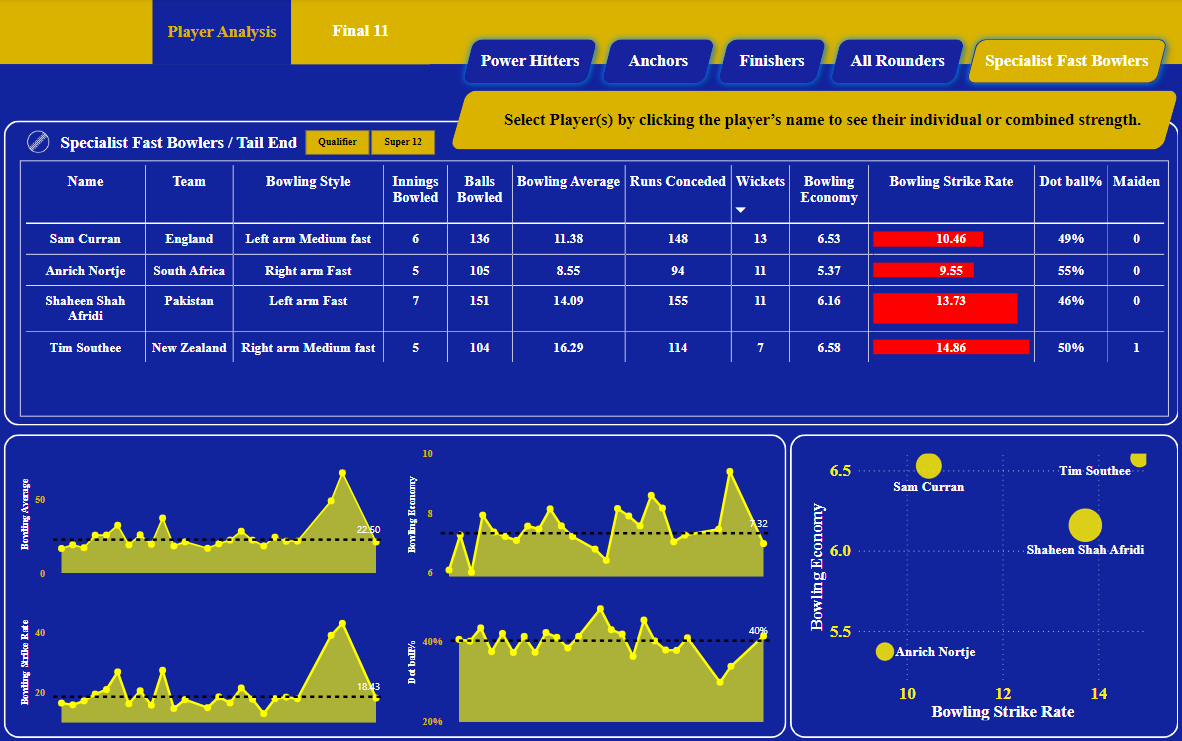

What the dashboard file says about the page in this screenshot:
{"tool":"powerbi","page":{"name":"New Specialist Fast Bowlers / Tail End","canvas":[1435,900],"ordinal":4},"visuals":[{"type":"shape","box":[0,79.9,1435.3,820.2],"z":0},{"type":"group","id":"g1","title":"Group 2","box":[76.1,158.2,292.5,31.7],"z":0,"group":"g2"},{"type":"shape","box":[76.1,158.2,292.5,31.7],"z":0,"group":"g1"},{"type":"shape","box":[10.6,147.8,1417.2,367.9],"z":1000},{"type":"image","box":[30.2,155.3,44,36],"z":1000,"group":"g2"},{"type":"shape","box":[548.8,111.6,879,70.9],"z":2000},{"type":"shape","box":[958.9,526.2,468.9,366.4],"z":3000},{"type":"tableEx","fields":{"Values":["dim_players.Name","dim_players.Team","dim_players.Bowling Style","Measure.Total Innings Bowled","Measure.Balls Bowled","Measure.Bowling Average","Measure.Runs Conceded","Sum(fact_bowling_summary.Wickets)","Measure.Bowling Economy","Measure.Bowling Strike Rate","Measure.Dot ball%","Sum(fact_bowling_summary.Maiden)"]},"box":[30.2,196,1385.6,309],"z":4000},{"type":"card","fields":{"Values":["Measure.Bowling Average"]},"box":[815.7,111.6,138.7,70.9],"z":5000},{"type":"slicer","fields":{"Values":["dim_match_summary.Stage"]},"box":[348.3,152.3,206.6,43.7],"z":6000},{"type":"scatterChart","fields":{"Category":["dim_players.Name"],"Size":["Measure.Total Runs"],"Y":["Measure.Bowling Economy"],"X":["Measure.Bowling Strike Rate"]},"box":[975.5,536.7,428.2,339.2],"z":7000},{"type":"card","fields":{"Values":["Measure.Dot ball%"]},"box":[1240.8,111.6,123.6,70.9],"z":8000},{"type":"card","fields":{"Values":["Measure.Bowling Economy"]},"box":[975.5,111.6,123.6,70.9],"z":9000},{"type":"card","fields":{"Values":["Measure.Bowling Strike Rate"]},"box":[1115.7,111.6,125.1,70.9],"z":10000},{"type":"actionButton","box":[554.8,40.7,180.9,70.9],"z":11000},{"type":"actionButton","box":[722.2,40.7,155.3,70.9],"z":12000},{"type":"actionButton","box":[1162.4,40.7,260.8,70.9],"z":13000},{"type":"actionButton","box":[998.1,40.7,180.9,70.9],"z":14000},{"type":"actionButton","box":[862.4,40.7,149.3,70.9],"z":15000},{"type":"shape","box":[10.6,526.2,943.8,366.4],"z":16000},{"type":"areaChart","fields":{"Y":["Measure.Bowling Economy"],"Category":["dim_match_summary.Match Date"]},"box":[493,535.2,449.3,170.4],"z":17000},{"type":"areaChart","fields":{"Y":["Measure.Dot ball%"],"Category":["dim_match_summary.Match Date"]},"box":[493,714.6,449.3,170.4],"z":18000},{"type":"areaChart","fields":{"Y":["Measure.Bowling Strike Rate"],"Category":["dim_match_summary.Match Date"]},"box":[25.6,716.1,449.3,170],"z":19000},{"type":"areaChart","fields":{"Y":["Measure.Bowling Average"],"Category":["dim_match_summary.Match Date"]},"box":[25.6,536.7,449.3,170],"z":20000},{"type":"actionButton","box":[190,1.5,167.4,78.4],"z":21000},{"type":"actionButton","box":[357.3,0,167.4,79.9],"z":22000},{"type":"shape","box":[585,125.1,215.6,43.7],"z":23000},{"type":"shape","box":[612.1,125.1,771.9,43.7],"z":24000},{"type":"group","id":"g2","title":"Group 1","box":[30.2,155.3,338.4,36],"z":25000}]}

Visuals, with their boxes in screenshot pixels (x1, y1, x2, y2), scaled from the page's 1435x900 canvas onto the 1182x741 screenshot:
shape: region(0, 66, 1181, 740)
"Group 2" group: region(63, 130, 304, 156)
shape: region(63, 130, 304, 156)
shape: region(9, 122, 1176, 425)
image: region(25, 128, 61, 158)
shape: region(452, 92, 1176, 150)
shape: region(790, 433, 1176, 735)
tableEx - dim_players.Name x dim_players.Team: region(25, 161, 1166, 416)
card - Measure.Bowling Average: region(672, 92, 786, 150)
slicer - dim_match_summary.Stage: region(287, 125, 457, 161)
scatterChart - dim_players.Name x Measure.Total Runs: region(804, 442, 1156, 721)
card - Measure.Dot ball%: region(1022, 92, 1124, 150)
card - Measure.Bowling Economy: region(804, 92, 905, 150)
card - Measure.Bowling Strike Rate: region(919, 92, 1022, 150)
actionButton: region(457, 34, 606, 92)
actionButton: region(595, 34, 723, 92)
actionButton: region(957, 34, 1172, 92)
actionButton: region(822, 34, 971, 92)
actionButton: region(710, 34, 833, 92)
shape: region(9, 433, 786, 735)
areaChart - Measure.Bowling Economy x dim_match_summary.Match Date: region(406, 441, 776, 581)
areaChart - Measure.Dot ball% x dim_match_summary.Match Date: region(406, 588, 776, 729)
areaChart - Measure.Bowling Strike Rate x dim_match_summary.Match Date: region(21, 590, 391, 730)
areaChart - Measure.Bowling Average x dim_match_summary.Match Date: region(21, 442, 391, 582)
actionButton: region(157, 1, 294, 66)
actionButton: region(294, 0, 432, 66)
shape: region(482, 103, 659, 139)
shape: region(504, 103, 1140, 139)
"Group 1" group: region(25, 128, 304, 158)
